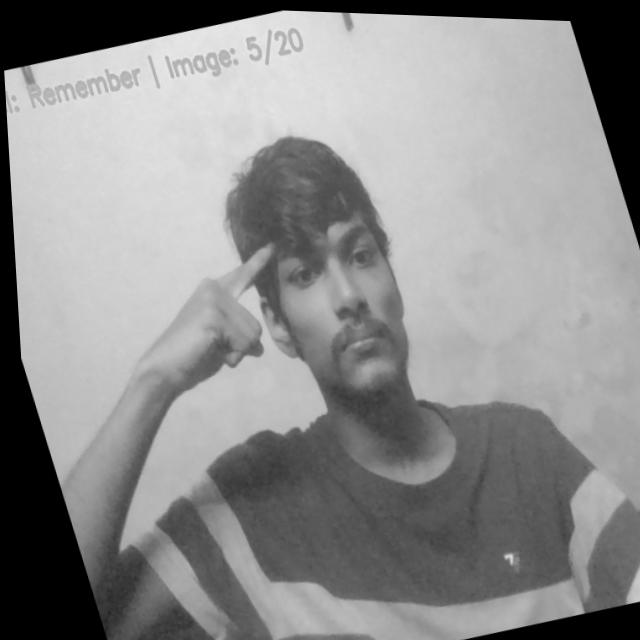Remember: (121, 213, 311, 400)
